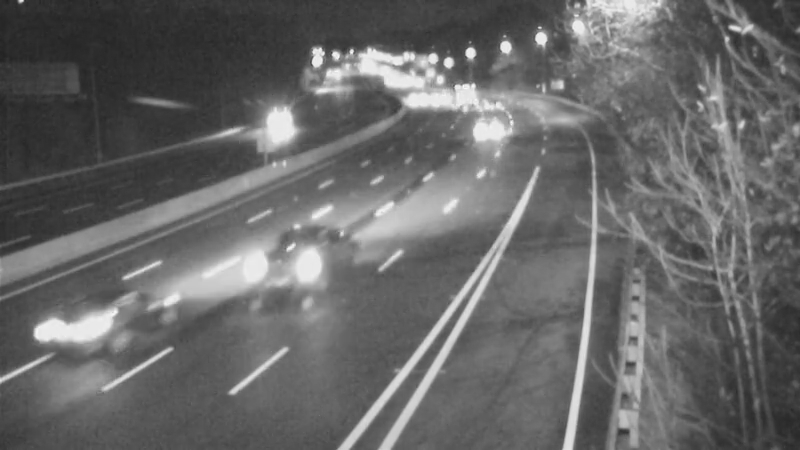vehicle: (25, 278, 135, 388), (259, 228, 339, 308), (393, 75, 443, 125), (441, 65, 491, 115), (462, 82, 512, 132), (465, 103, 515, 153), (242, 105, 292, 155)
